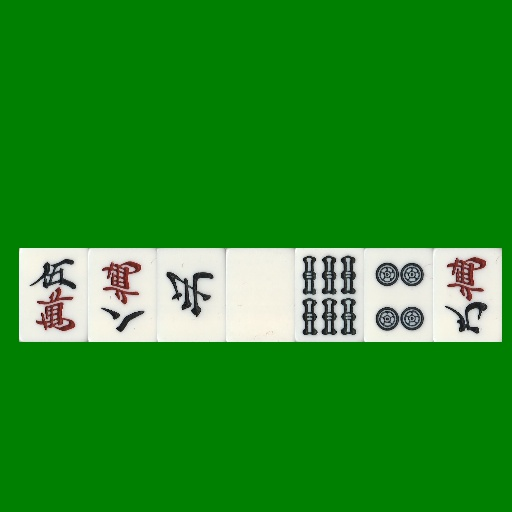4p: (364, 248, 433, 342)
5m: (19, 248, 88, 342)
6s: (295, 248, 364, 342)
8m: (88, 248, 157, 342)
9m: (433, 248, 502, 342)
north: (157, 248, 226, 342)
white: (226, 248, 295, 342)
